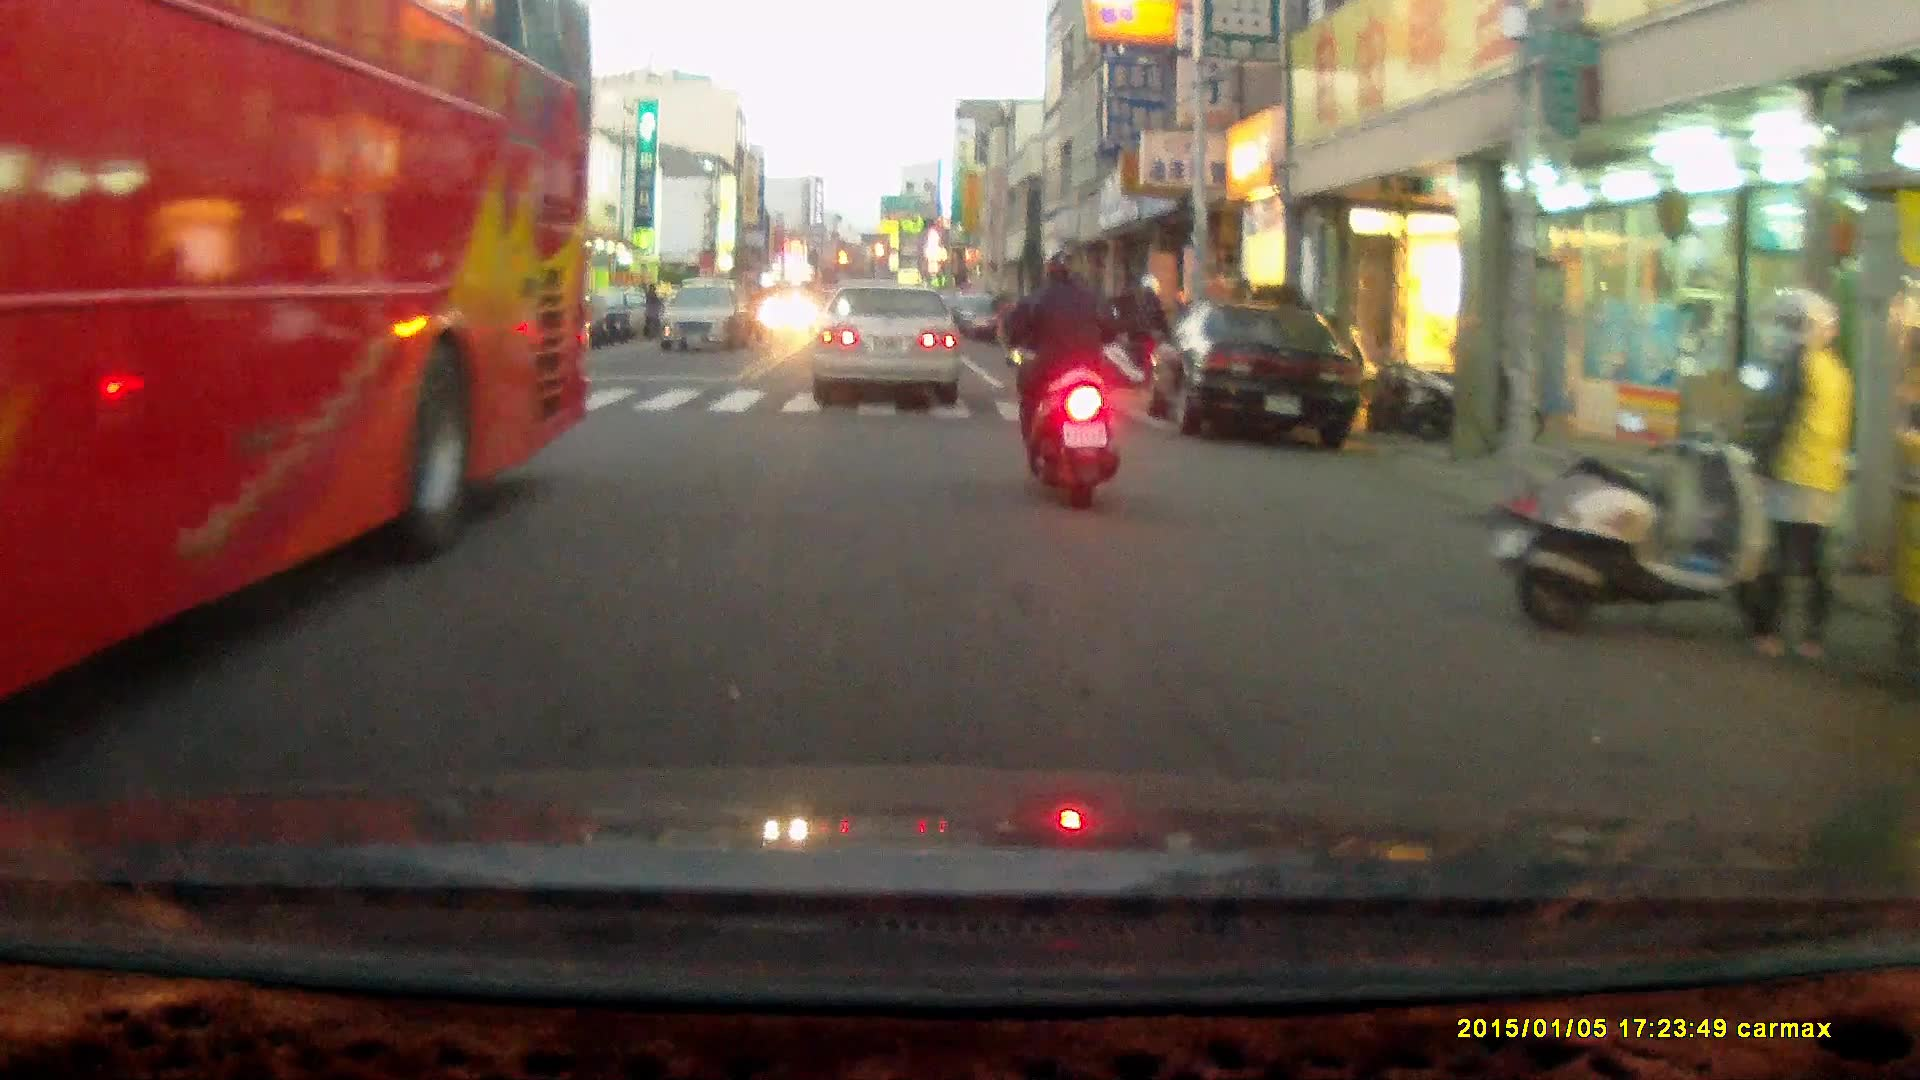pedestrian: (1740, 283, 1857, 662), (1133, 272, 1171, 394), (642, 277, 664, 343)
rider: (992, 242, 1118, 508)
vehicle: (1, 16, 595, 724), (1143, 302, 1374, 445), (812, 279, 963, 406), (481, 281, 588, 358), (655, 281, 753, 354)
